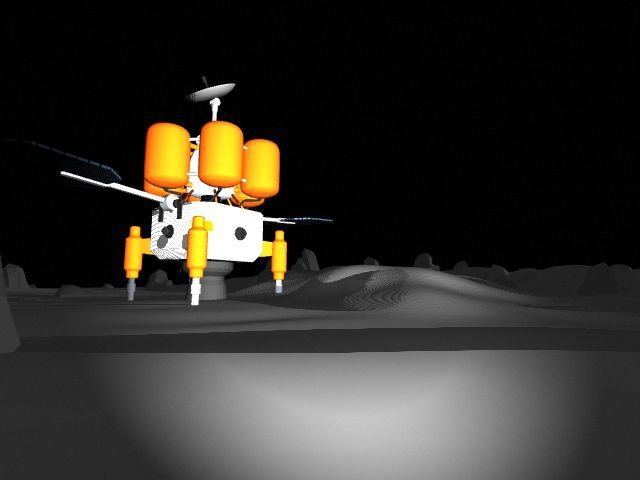homebase: (18, 71, 334, 309)
